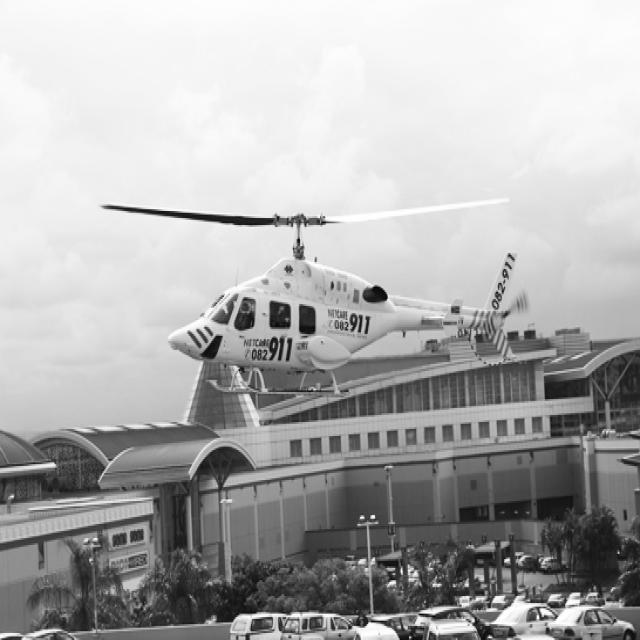helicopter: (103, 177, 539, 409)
